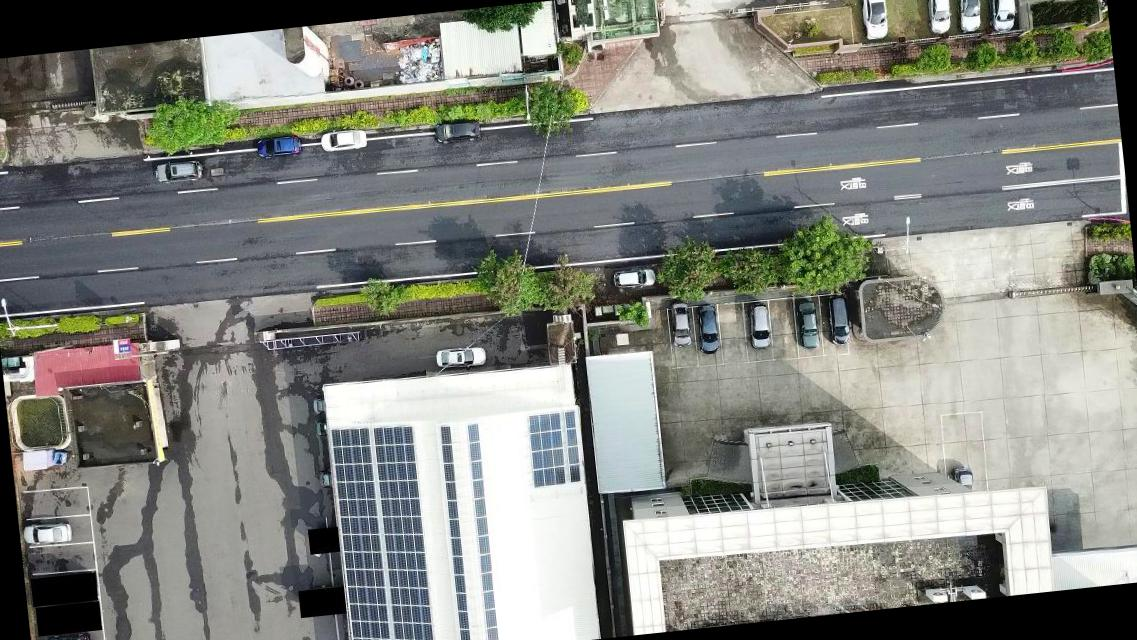vehicle: (857, 0, 893, 43), (824, 294, 851, 349), (434, 344, 488, 371), (152, 157, 202, 186), (22, 518, 72, 546), (745, 301, 772, 352), (696, 304, 722, 356), (319, 127, 369, 154), (794, 300, 820, 351), (434, 118, 483, 145), (668, 300, 692, 350), (984, 0, 1020, 32), (611, 266, 657, 291), (956, 0, 985, 36), (256, 136, 302, 158), (926, 0, 953, 35), (951, 466, 975, 492), (46, 631, 92, 639), (317, 471, 332, 489), (312, 397, 326, 415), (314, 421, 328, 437)
